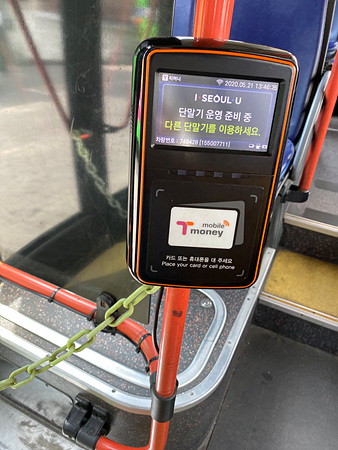terminal: (130, 39, 268, 289)
